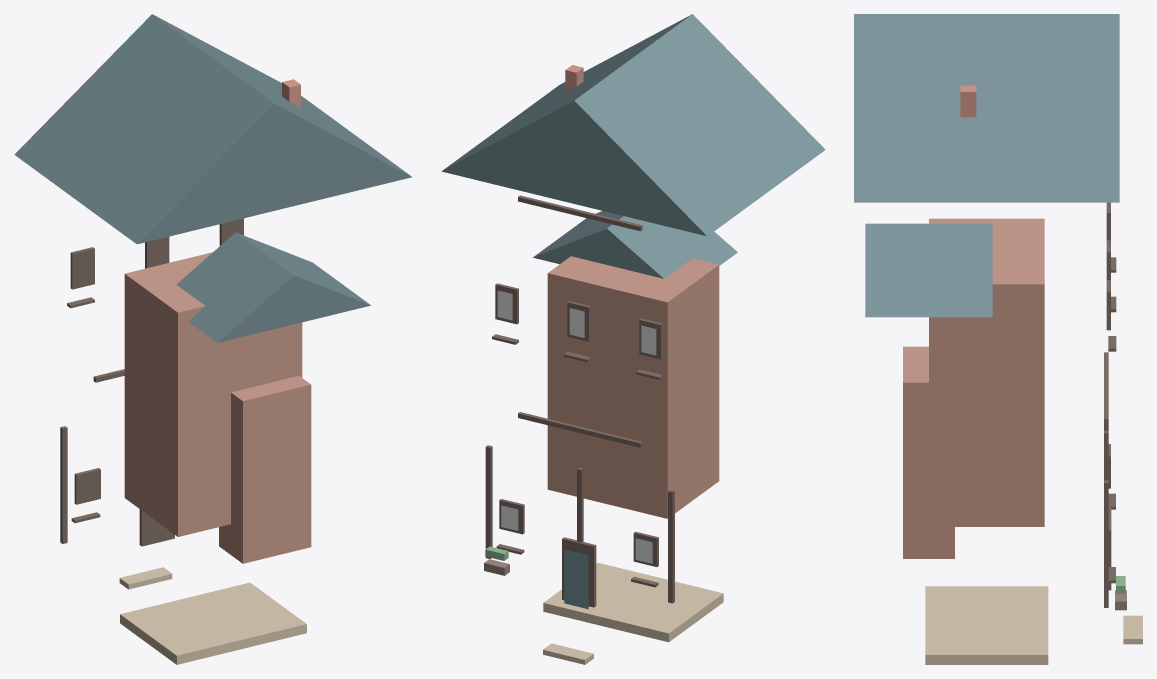
The model's file is harbour-rail-shed-01.glb.
3 views of the same model, side by side, from view 1: azimuth 30°, elevation 25°; view 2: azimuth 150°, elevation 25°; view 3: azimuth 270°, elevation 25° (orthographic). The views are drawn at different scales.
Visible parts, largest first — view 1: roof, body, wing, wing_roof, plinth, uwf_1_-0.76, up_-0.97, wf_-0.71, door_frame, step, uwf_1_0.00; view 2: roof, body, wing_roof, plinth, door, door_frame, beam_2, beam_1, up_0.97, up_-0.97, step; view 3: roof, body, wing_roof, plinth, wing, up_0.97, step, chimney.
Part boxes in pixels (x1,y1,x2,y2): roof: (14, 14, 412, 244); body: (124, 252, 302, 536); wing: (219, 376, 311, 563); wing_roof: (176, 232, 370, 342); plinth: (120, 582, 306, 664); uwf_1_-0.76: (70, 247, 94, 289); up_-0.97: (60, 426, 67, 543); wf_-0.71: (74, 468, 100, 504); door_frame: (139, 509, 174, 546); step: (119, 567, 172, 589); uwf_1_0.00: (145, 236, 169, 268); roof: (441, 14, 825, 236); body: (547, 256, 719, 518); wing_roof: (533, 211, 737, 278); plinth: (543, 563, 723, 642); door: (564, 549, 588, 609); door_frame: (562, 537, 596, 607); beam_2: (518, 195, 642, 231); beam_1: (518, 412, 642, 447); up_0.97: (485, 445, 492, 558); up_-0.97: (668, 489, 674, 603); step: (543, 643, 593, 664); roof: (854, 14, 1119, 202); body: (929, 218, 1044, 526); wing_roof: (865, 223, 992, 317); plinth: (925, 586, 1048, 664); wing: (903, 346, 954, 558); up_0.97: (1104, 480, 1108, 607); step: (1123, 615, 1142, 644); chimney: (960, 85, 976, 117).
Bounding box in the file's own units: 2.83 × 5.61 × 2.37.
